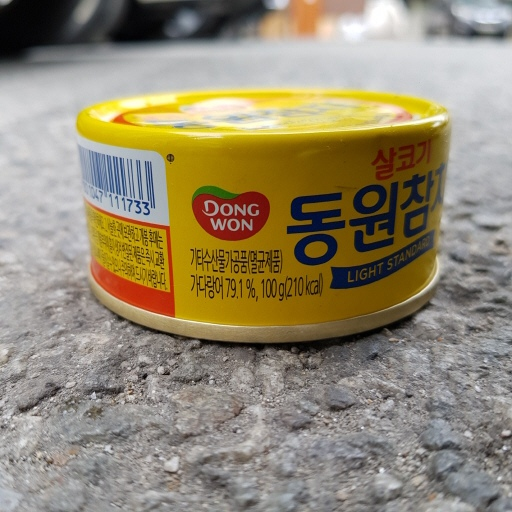Metal_1: (70, 84, 448, 344)
